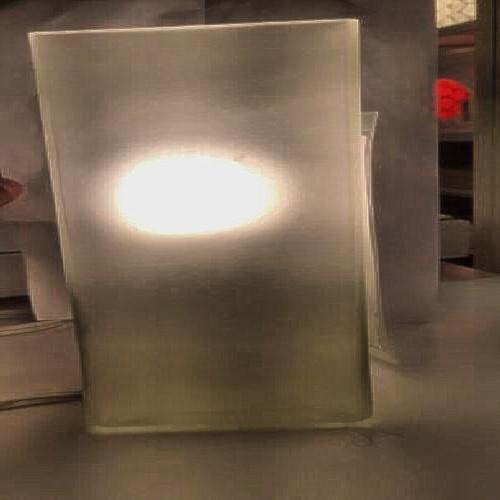lamp: (32, 27, 396, 441)
